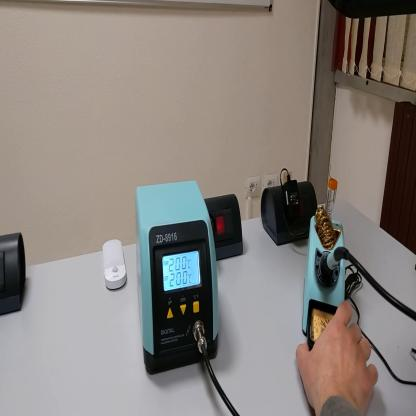hand: (298, 300, 377, 407)
socket: (258, 180, 322, 246), (205, 194, 245, 263)
welder base: (300, 182, 345, 346)
welder probe tip: (325, 249, 345, 283)
welder station: (135, 170, 222, 377)
